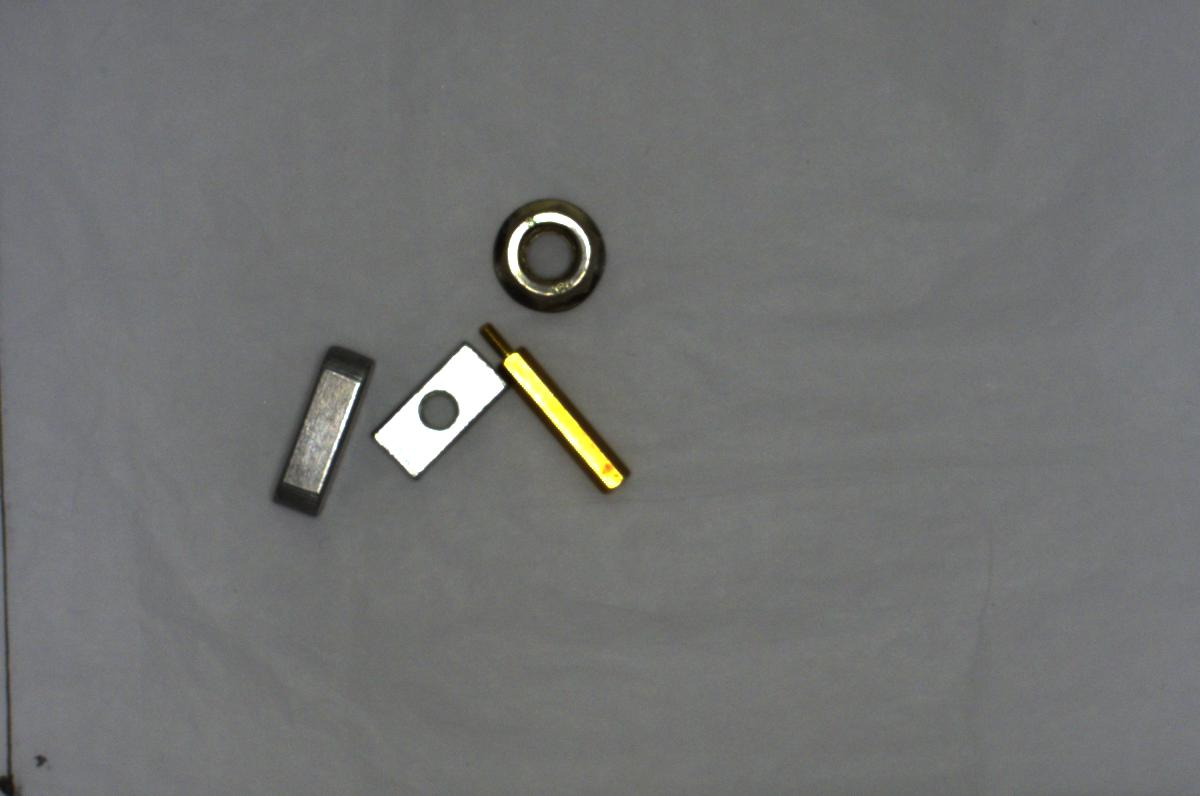Flange nut: (484, 189, 617, 319)
Hexagon pillar: (472, 315, 637, 503)
Keybar: (271, 338, 372, 520)
Rectangular nut: (370, 341, 508, 476)
